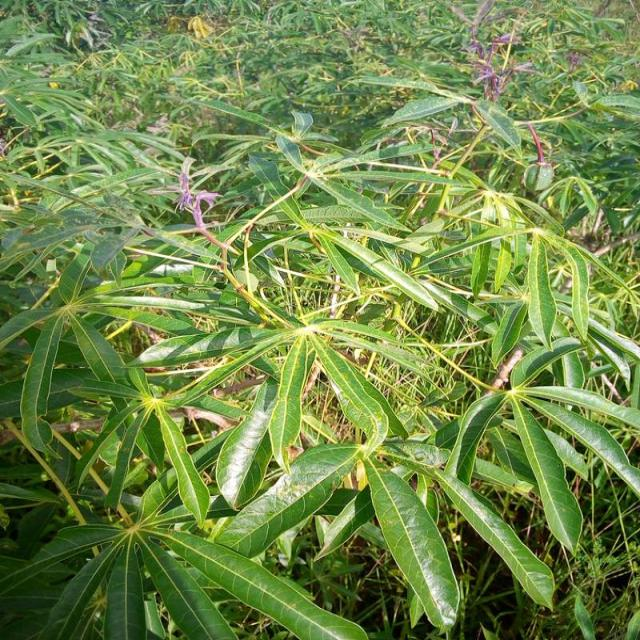cassava leaf: (1, 5, 638, 637), (362, 454, 460, 630)
